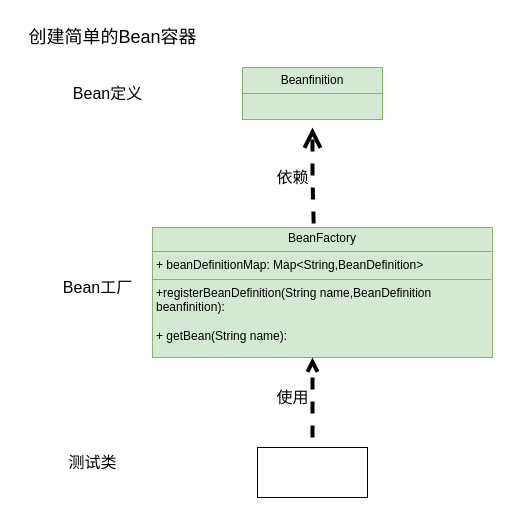
Image size: 510x515. Some labels were removed from this diagram. Here are the shapes that lost their labels. From the top down, the centre of each, then its label:
At pixel 312 106: "+ bean:Object".
At pixel 312 472: "ApiTest".
